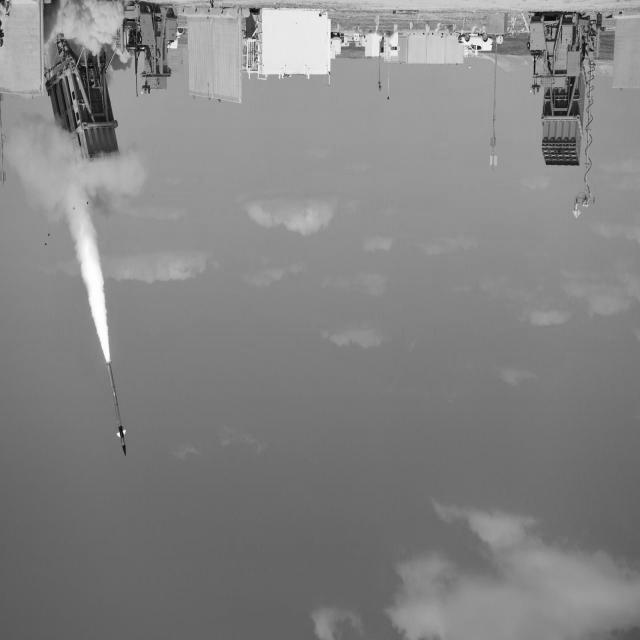missile: (100, 361, 134, 466)
